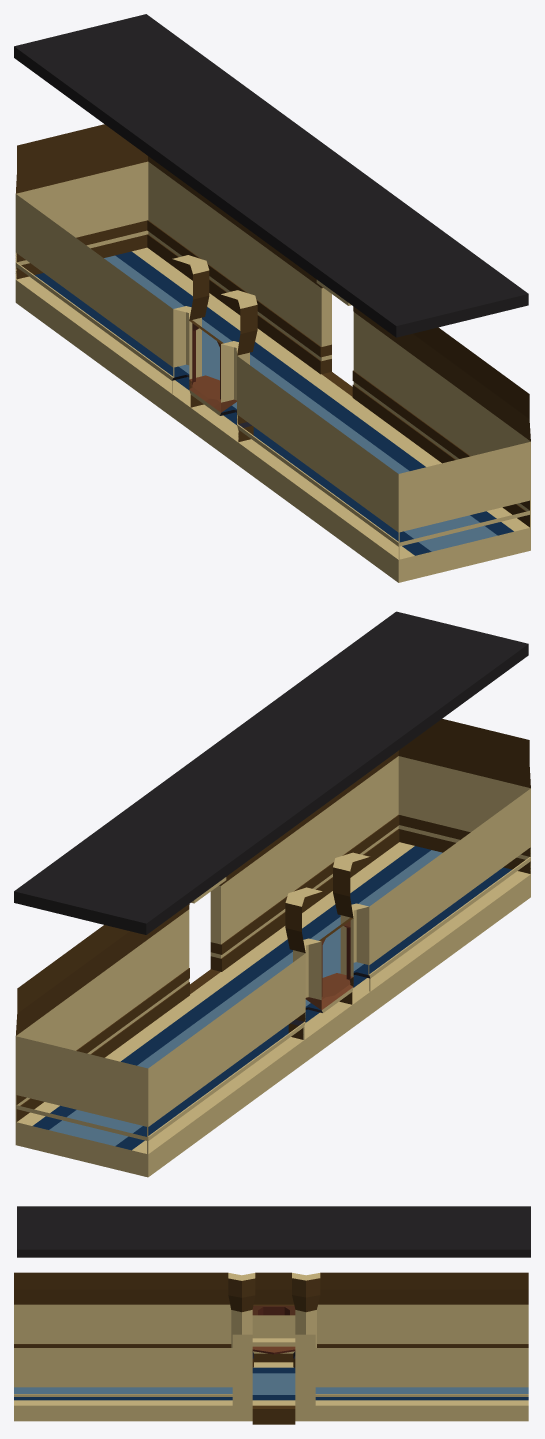
Rendered from floorHallwayAndCeiling4.fbx.
3 renders of one model, top to bottom at view 1: azimuth 30°, elevation 25°; view 2: azimuth 150°, elevation 25°; view 3: azimuth 270°, elevation 25°, orthographic. The views are drawn at different scales.
Visible parts, largest first — view 1: hallway, Cube.001; view 2: hallway, Cube.001; view 3: hallway, Cube.001.
Part boxes in pixels (x1,y1,x2,y2): hallway: (15,124,530,582); Cube.001: (14,14,528,337); hallway: (15,718,530,1177); Cube.001: (14,611,528,934); hallway: (14,1272,528,1424); Cube.001: (17,1206,530,1257).
Size of the model in its own units: 335 by 552 by 1509.
